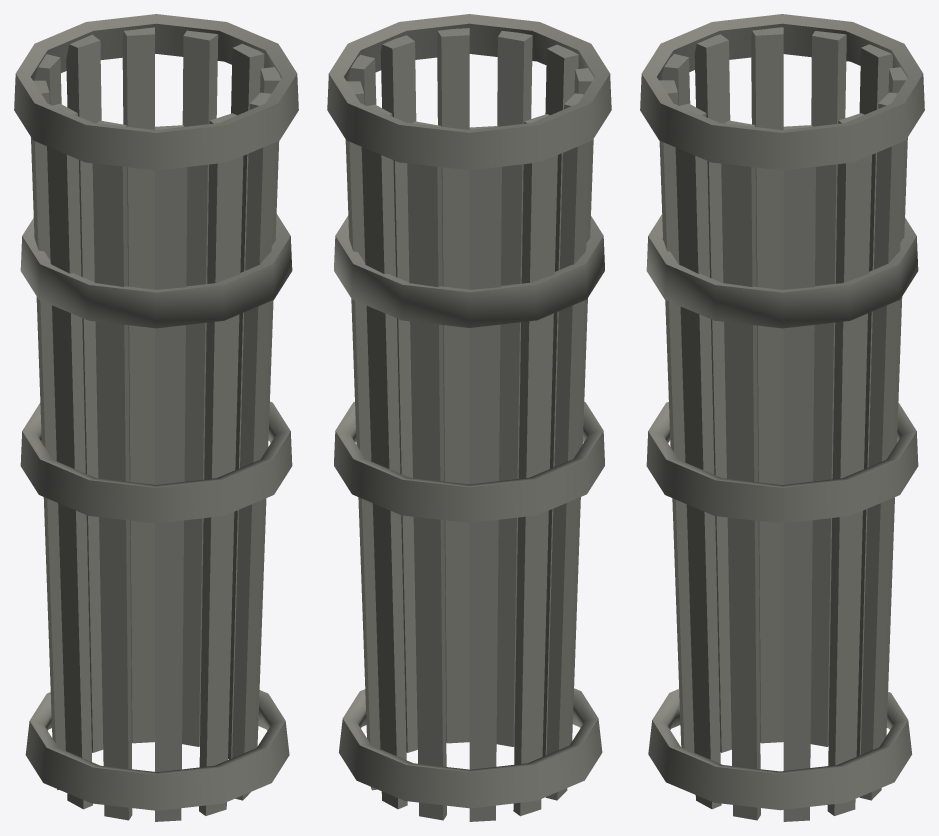
The model's file is metal_cage_01.fbx.
3 renders of one model, left to right at view 1: azimuth 30°, elevation 25°; view 2: azimuth 150°, elevation 25°; view 3: azimuth 270°, elevation 25°, orthographic.
Parts seen in each view (by area): view 1: metal_cage_01; view 2: metal_cage_01; view 3: metal_cage_01.
Part boxes in pixels (<box>): metal_cage_01: <box>14,14,298,821</box>; metal_cage_01: <box>327,14,611,821</box>; metal_cage_01: <box>640,14,924,821</box>.
Bounding box in the file's own units: 67.43 × 184 × 67.43.
